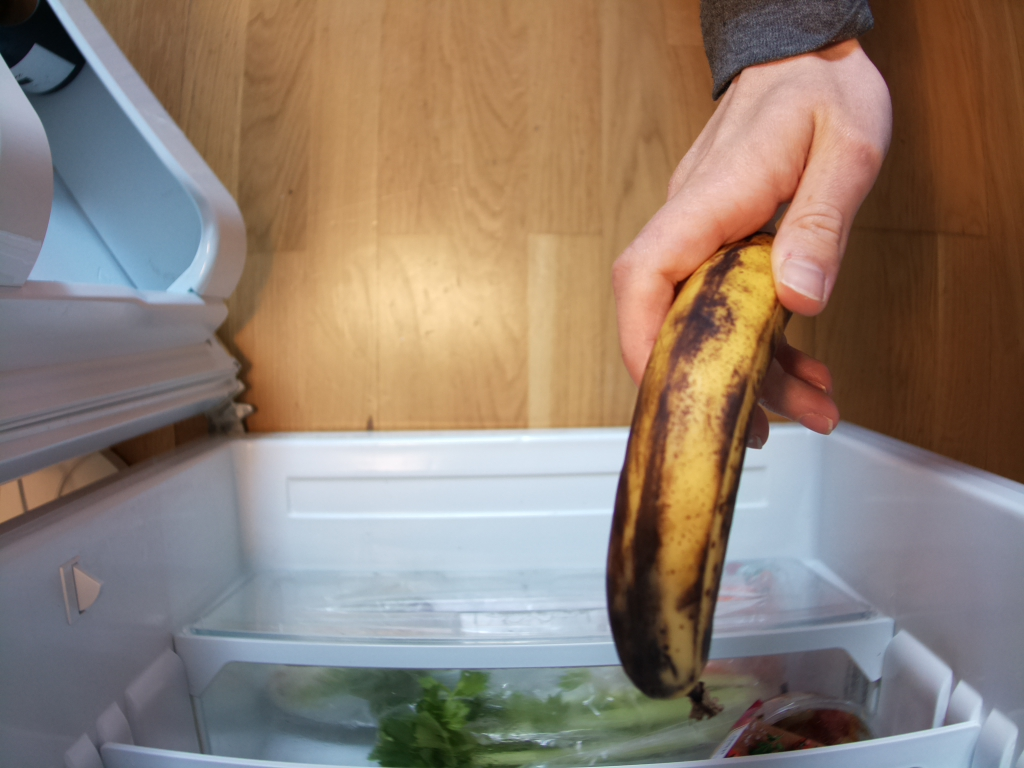banana-overripe: (605, 224, 754, 724)
